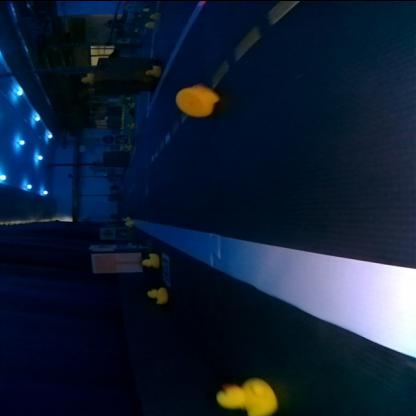Duckie: (216, 377, 275, 414), (176, 83, 218, 115), (146, 286, 166, 302), (141, 252, 159, 266), (144, 63, 160, 76), (80, 72, 92, 82), (150, 11, 160, 18), (144, 20, 154, 26), (127, 100, 136, 106), (124, 220, 132, 226), (126, 122, 134, 127)
Intersection sign: (100, 227, 113, 238)
QR code: (162, 252, 169, 284), (115, 227, 129, 238), (116, 134, 128, 142)
Stop sign: (100, 134, 113, 142)
